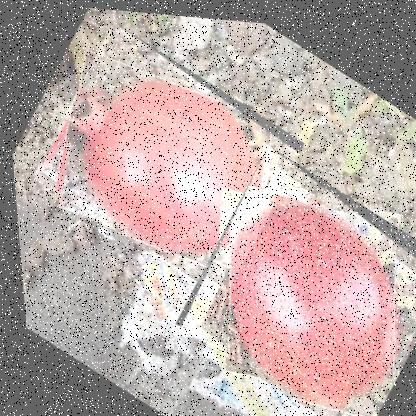pomegranate: (17, 13, 313, 303), (155, 132, 415, 415)
